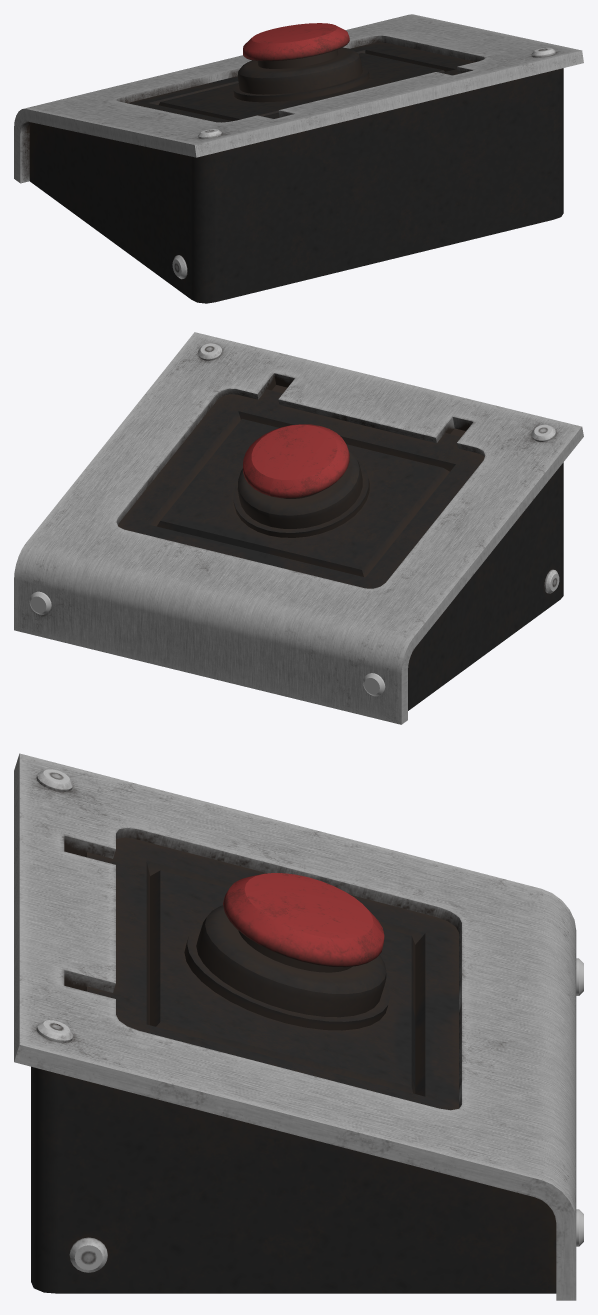
Rendered from SM_TargetRetrievalButton.fbx.
3 renders of one model, top to bottom at view 1: azimuth 30°, elevation 25°; view 2: azimuth 150°, elevation 25°; view 3: azimuth 270°, elevation 25°, orthographic. The views are drawn at different scales.
Visible parts, largest first — view 1: SM_TargetRetrievalButton_LOD0; view 2: SM_TargetRetrievalButton_LOD0; view 3: SM_TargetRetrievalButton_LOD0.
Boxes of the visible parts, x1,y1,x2,y2 form: SM_TargetRetrievalButton_LOD0: [14, 14, 583, 303]; SM_TargetRetrievalButton_LOD0: [14, 332, 583, 724]; SM_TargetRetrievalButton_LOD0: [14, 753, 583, 1300].
Bounding box in the file's own units: 20.49 × 16.94 × 8.72.
1 material, 1 textured.
